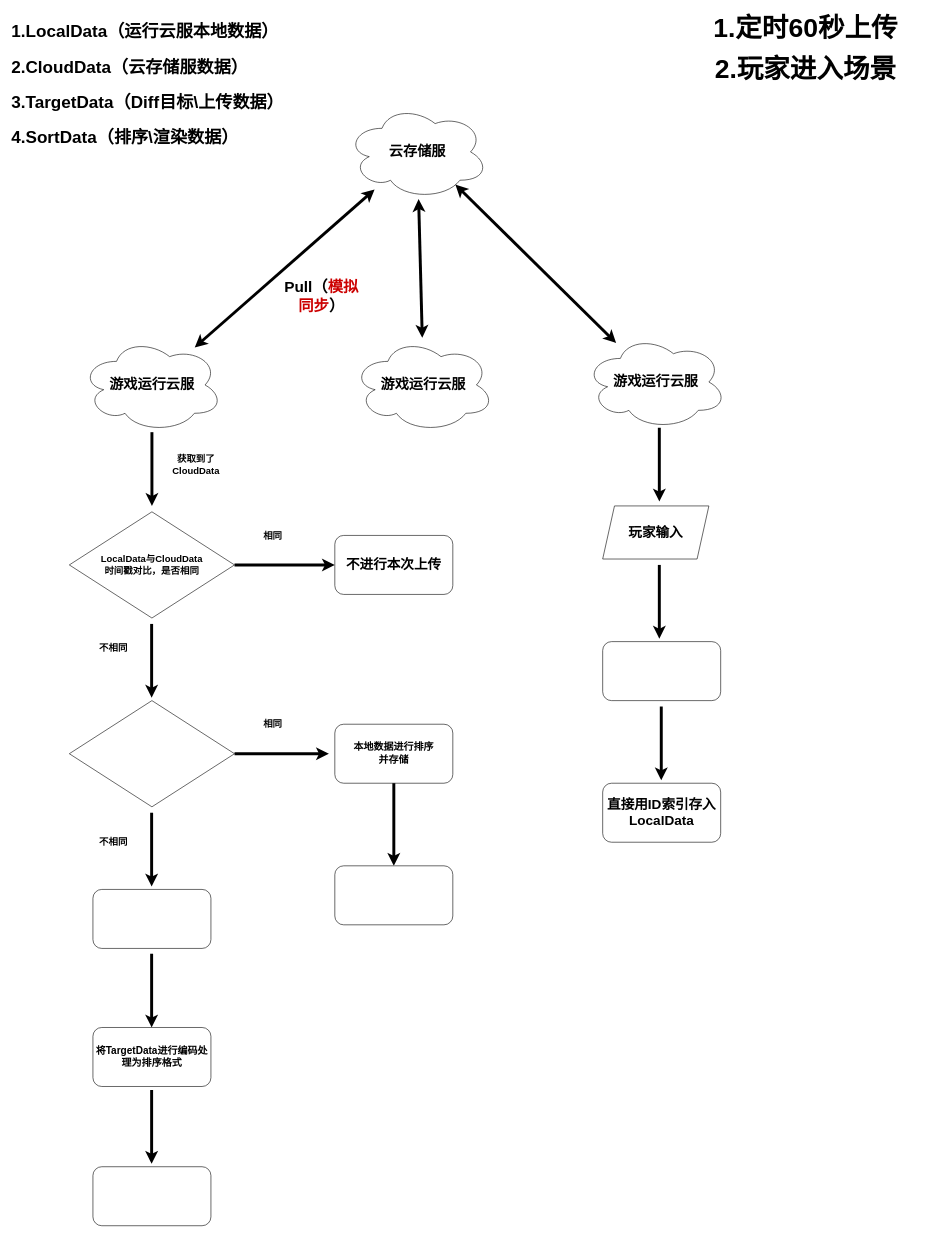
The diagram is 938 pixels wide and 1236 high, and some of its shapes have lost their labels. Here are the shapes that lost their labels. From the top down, the centre of each, then its label:
At pixel 661 671: "InitData（工厂）对输入数据赋时间戳".
At pixel 152 753: "LocalData与CloudData 云服ID对比，是否相同".
At pixel 393 895: "SortData->客户端 LocalData->上传".
At pixel 151 918: "LocalData与CloudData进行Diff更新（以时间戳为准），应用Diff到TargetData".
At pixel 151 1196: "SortData->客户端 TargetData->上传".
